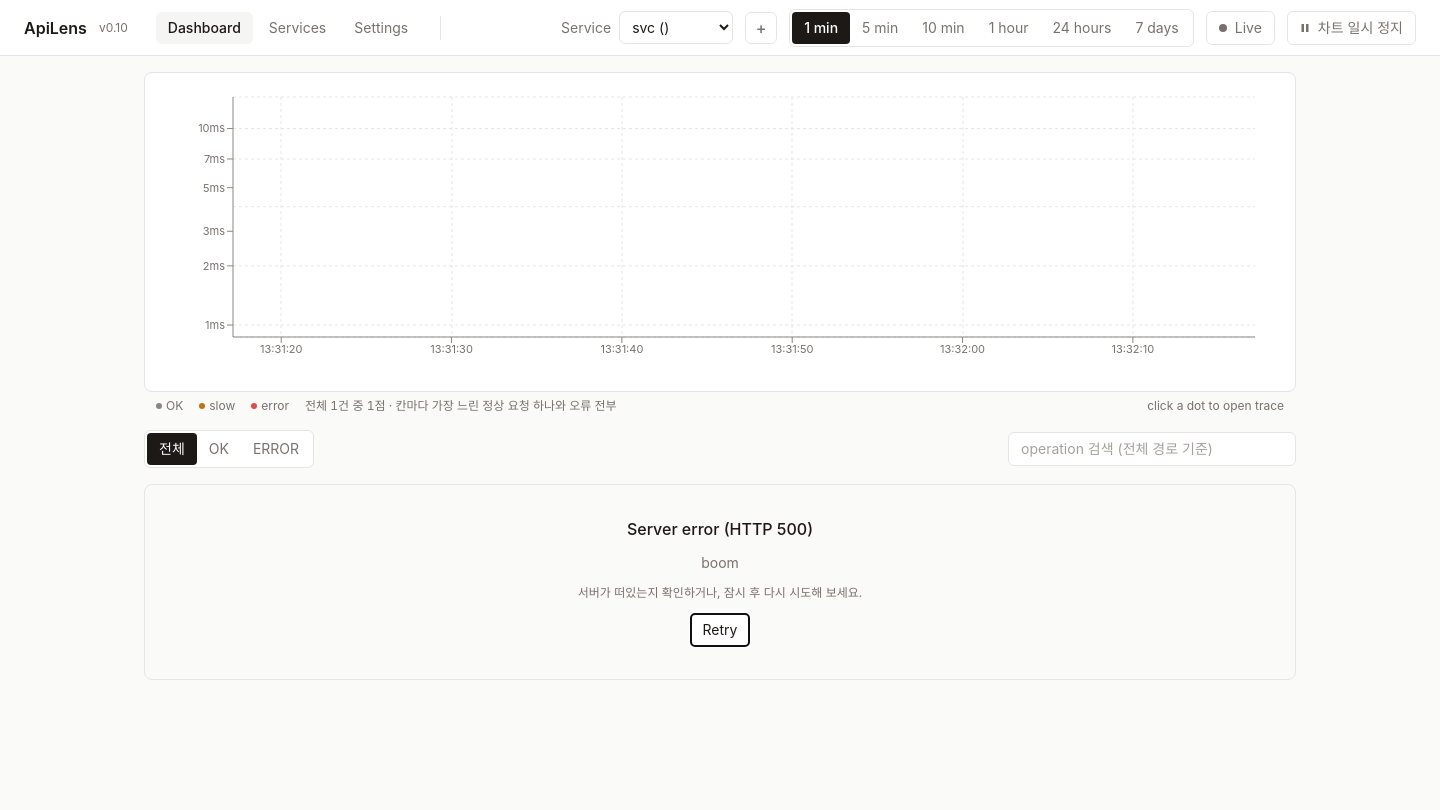
it: Dashboard — 흐르는 차트 배선 › movesFocusToTheListSlotAfterListRetryRecovers
Click the button "Retry".
click(720, 630)  # box [690,613,750,647]
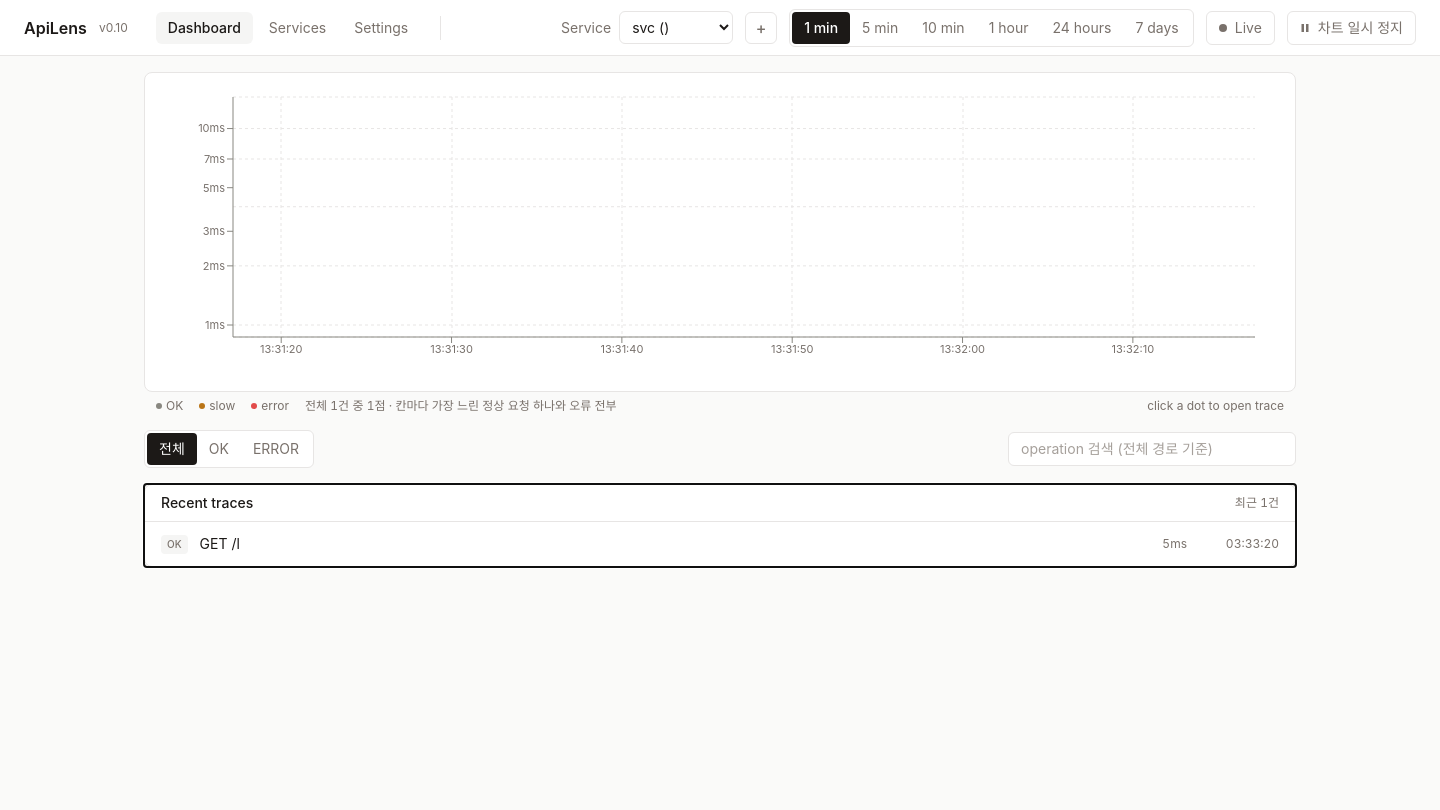
Result: the text "최근 1건" is shown at [1235,495,1279,511]
